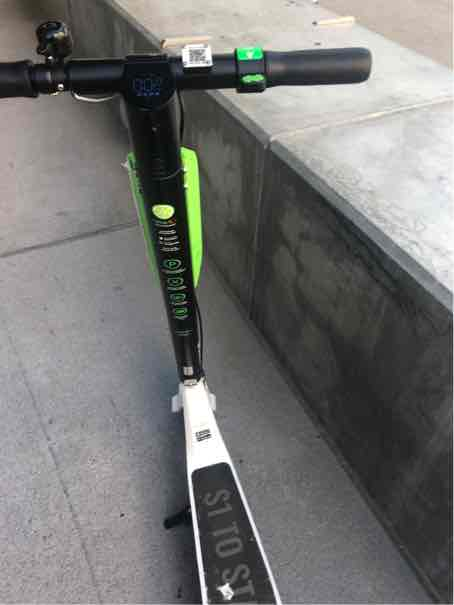scooter: (3, 38, 357, 605)
